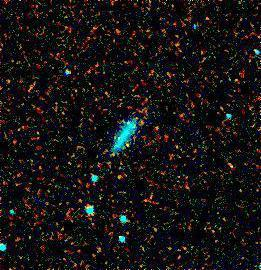star: (114, 131, 144, 161)
